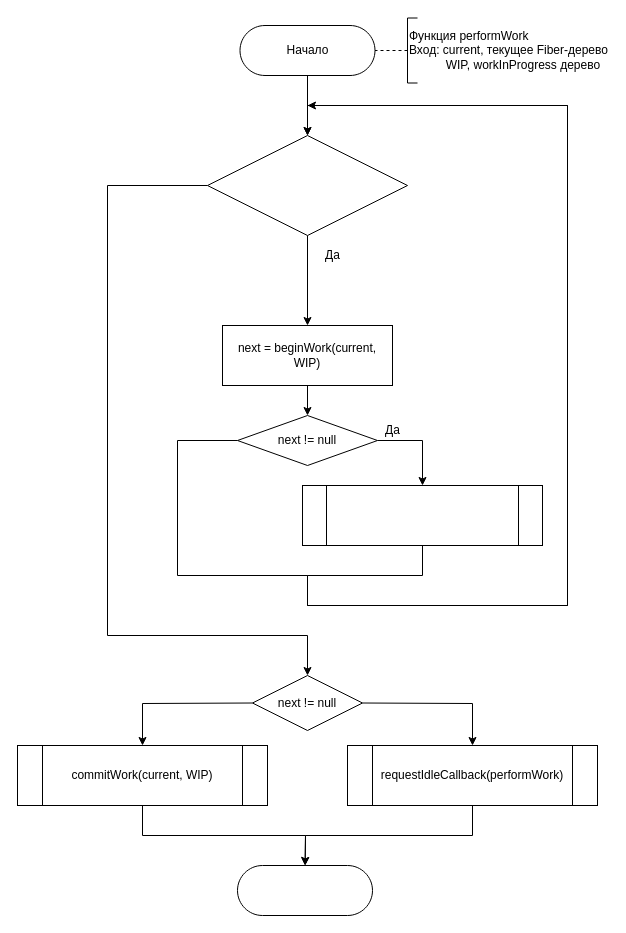
This 626x933 diagram has some shape labels left out. The shapes that lost their labels are listed below. From the top down, each one's centre as x and y in pixels, then its label:
At pixel 307 185: "next != null && timeRemaining()".
At pixel 422 515: "next = completeWork(current, WIP)".
At pixel 304 890: "Конец".
